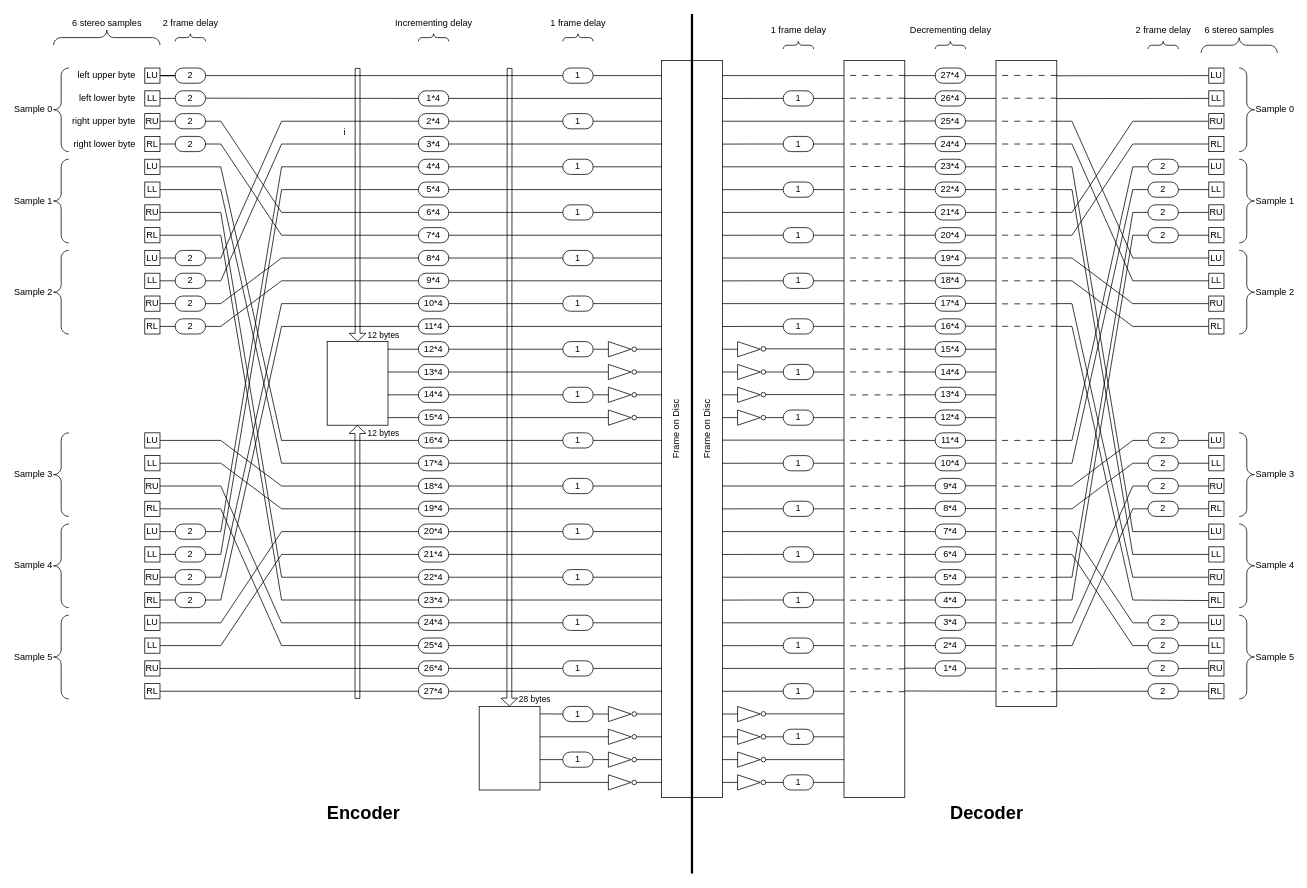
Image size: 1307x888. Some labels were removed from this diagram. Here are the shapes that lost their labels. From the top down, the centre of each, then its label:
the point at 357,383: C₂ encoder
the point at 1026,383: C₂ decoder
the point at 874,429: C₁ decoder
the point at 509,748: C₁ encoder
